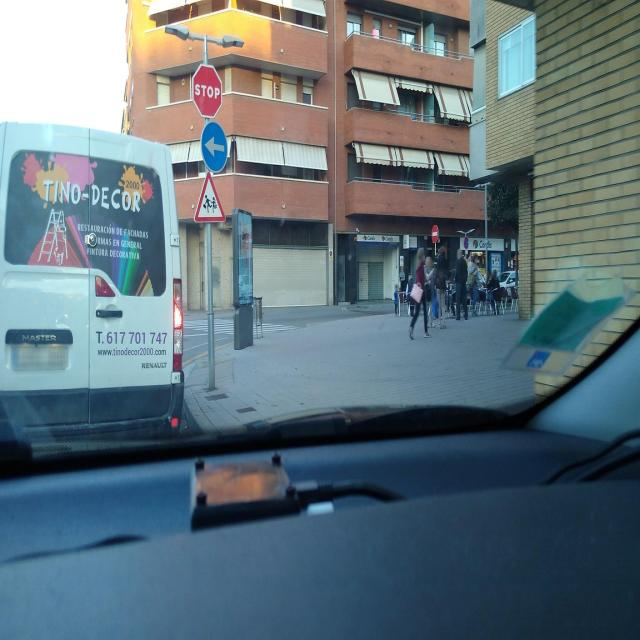car: (0, 120, 186, 434)
